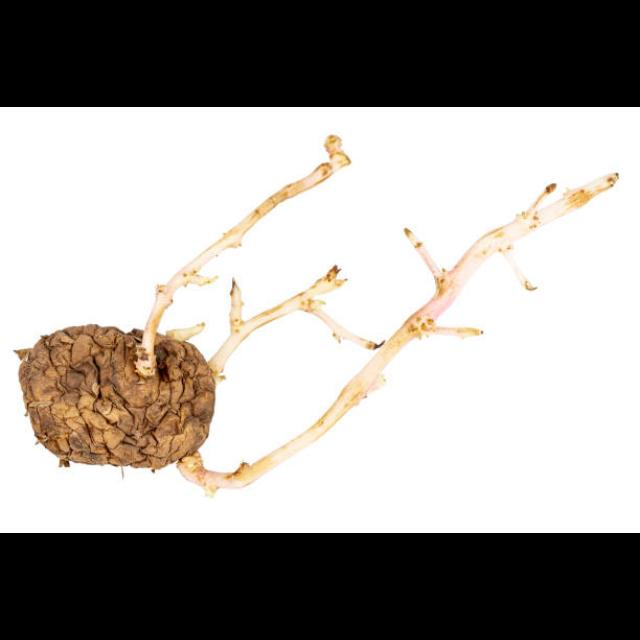Sprouted potato: (1, 243, 436, 491)
